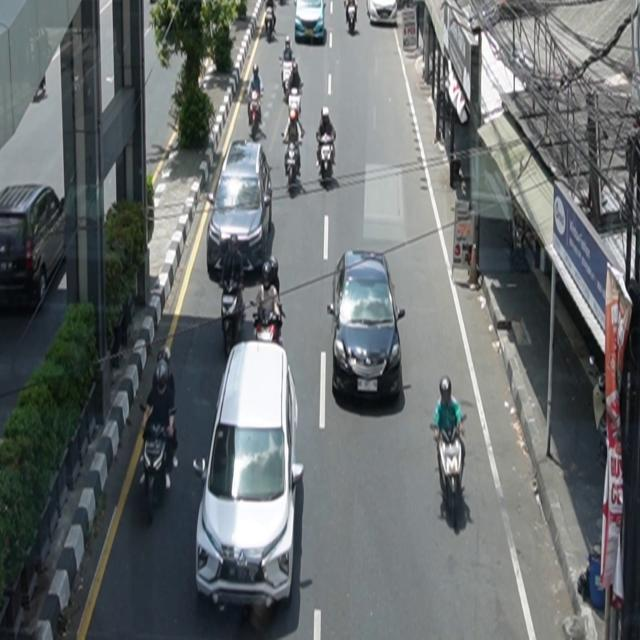car: (194, 340, 305, 614), (328, 250, 406, 404), (1, 184, 67, 314), (295, 1, 327, 45), (367, 1, 398, 26)
